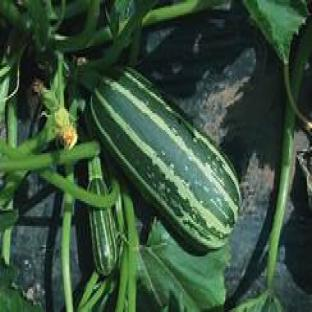Zucchini: (87, 69, 240, 248), (89, 209, 118, 275)
